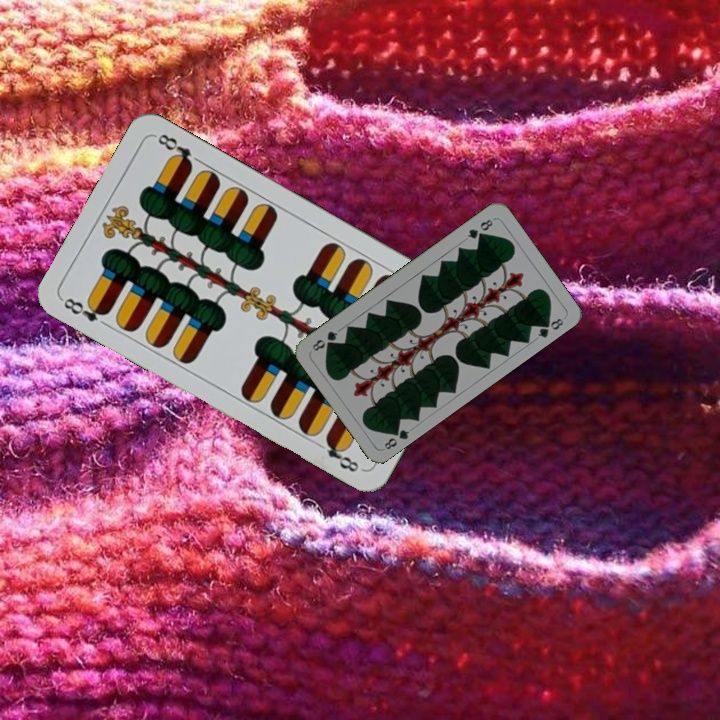E8: (58, 293, 112, 325)
G8: (380, 422, 412, 452), (463, 215, 496, 242)
